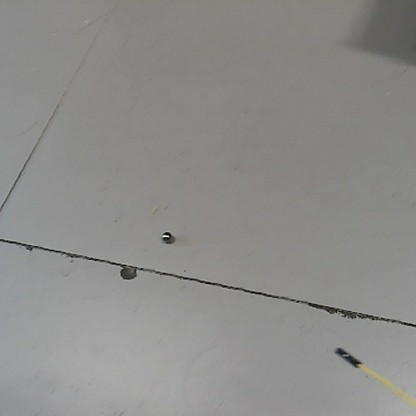ironball: (159, 229, 173, 243)
